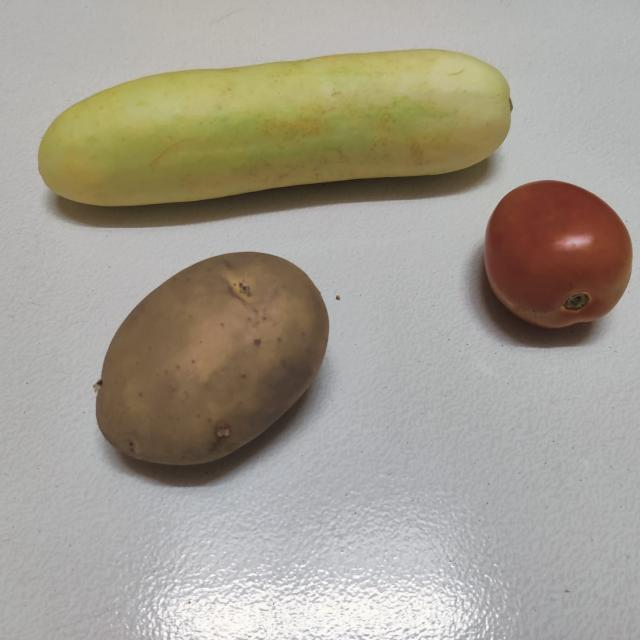Organik: (32, 42, 513, 202), (83, 247, 338, 480), (480, 178, 640, 342)
